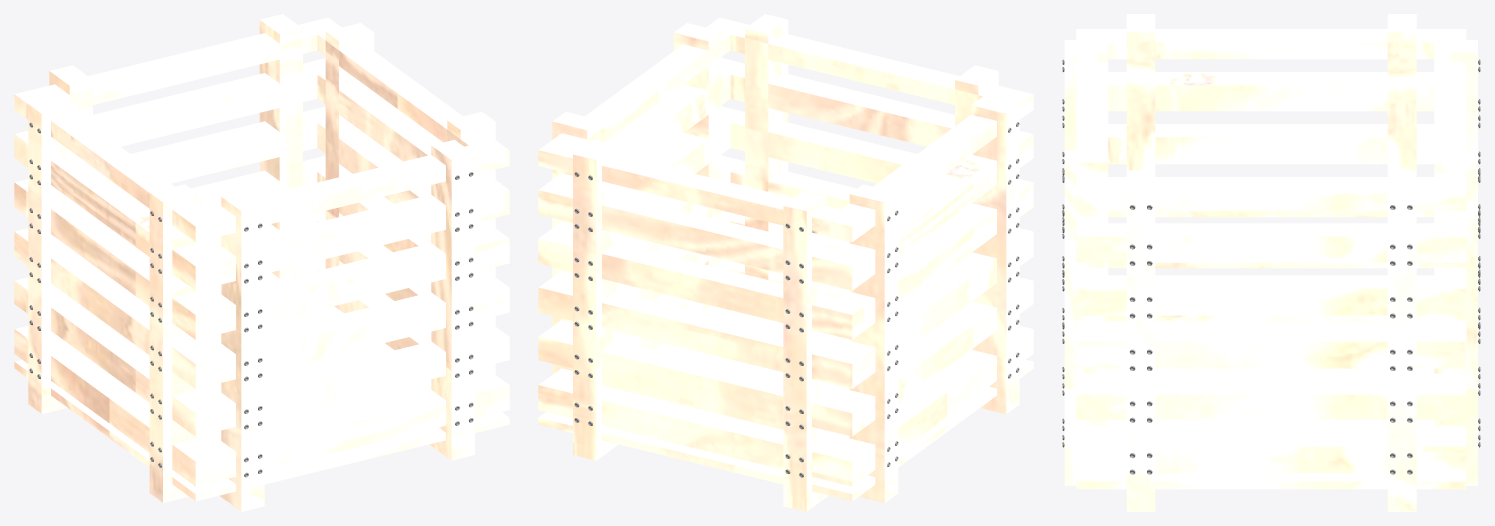
File: Crate2.fbx
3 renders of one model, left to right at view 1: azimuth 30°, elevation 25°; view 2: azimuth 150°, elevation 25°; view 3: azimuth 270°, elevation 25°, orthographic. The views are drawn at different scales.
Visible parts, largest first — view 1: pCube1; view 2: pCube1; view 3: pCube1.
Boxes of the visible parts, x1=… form: pCube1: x1=14, y1=14, x2=509, y2=511; pCube1: x1=538, y1=14, x2=1033, y2=511; pCube1: x1=1064, y1=14, x2=1477, y2=511.
Size of the model in its own units: 14.35 by 12.29 by 14.41.
